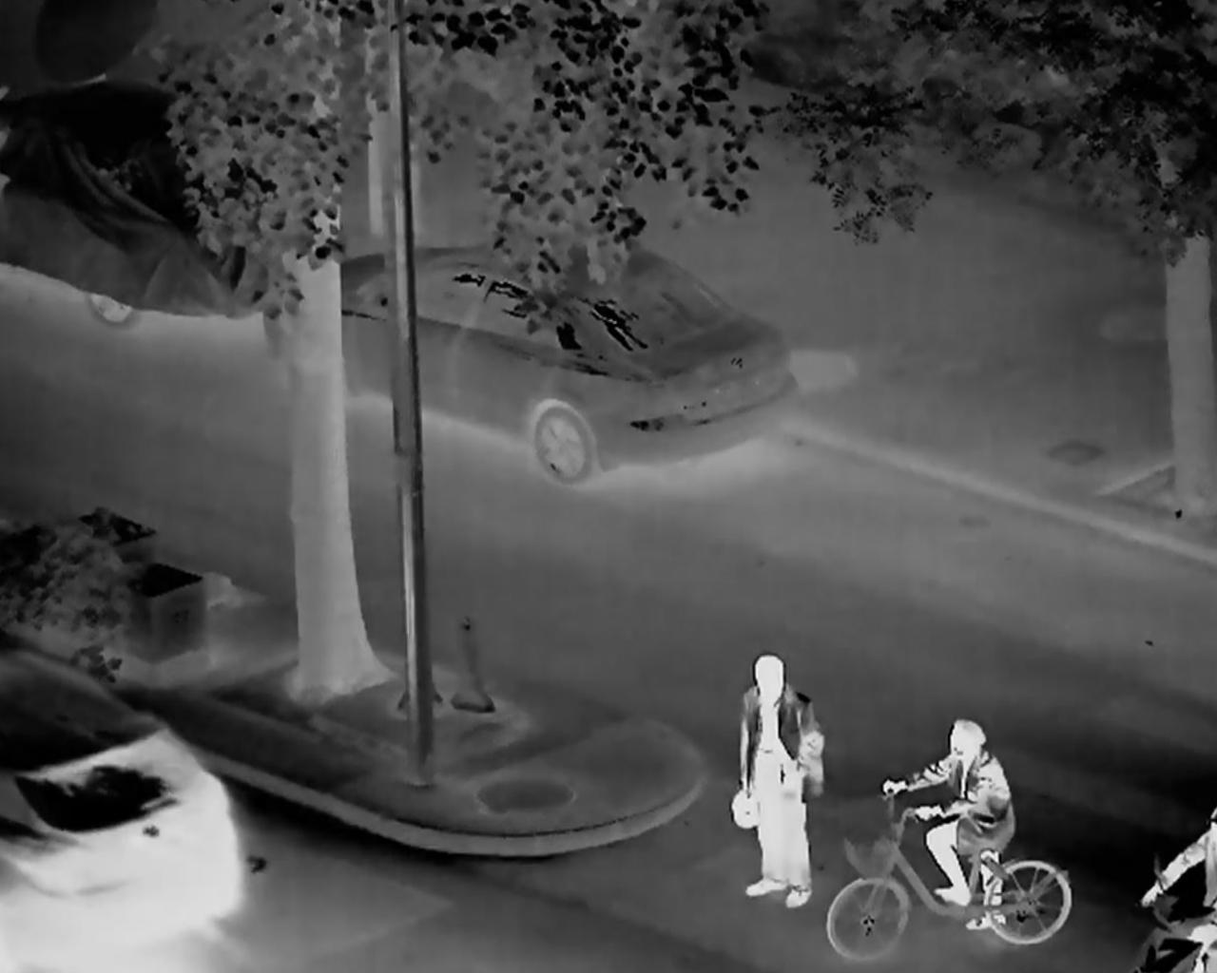person: (879, 720, 1014, 933), (727, 654, 826, 907), (1144, 802, 1217, 948)
